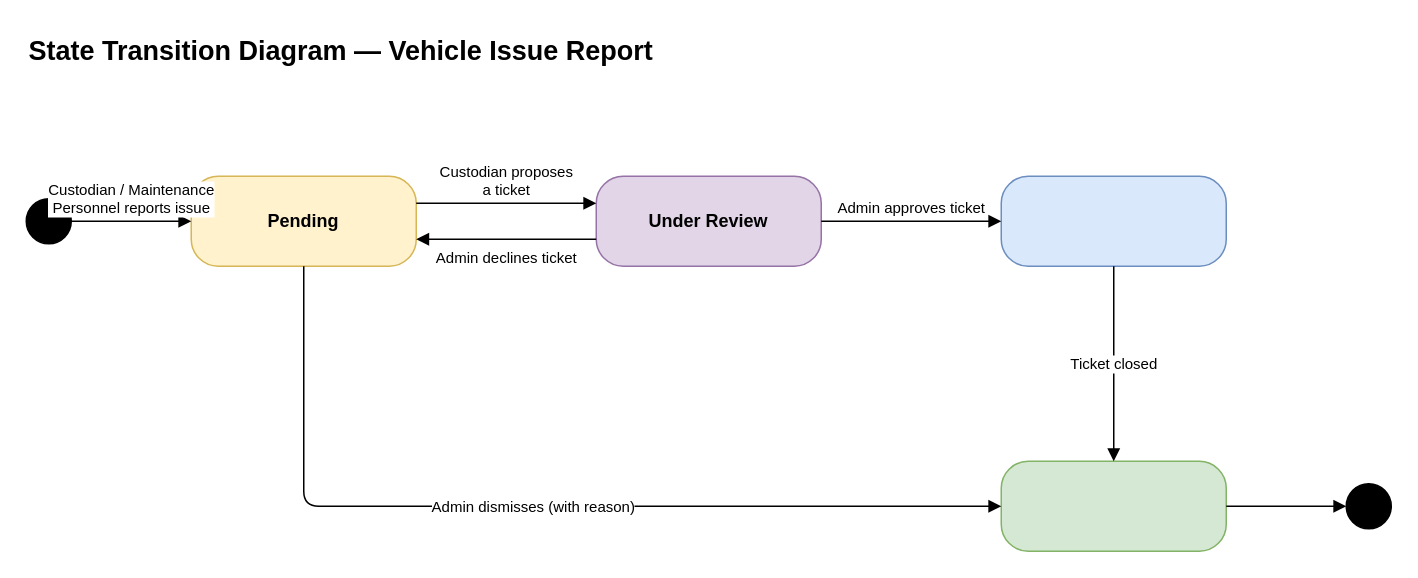
This 1418x578 diagram has some shape labels left out. Each missing label, with the centre of its shape:
In Maintenance: [1113,220]
Resolved: [1113,505]
